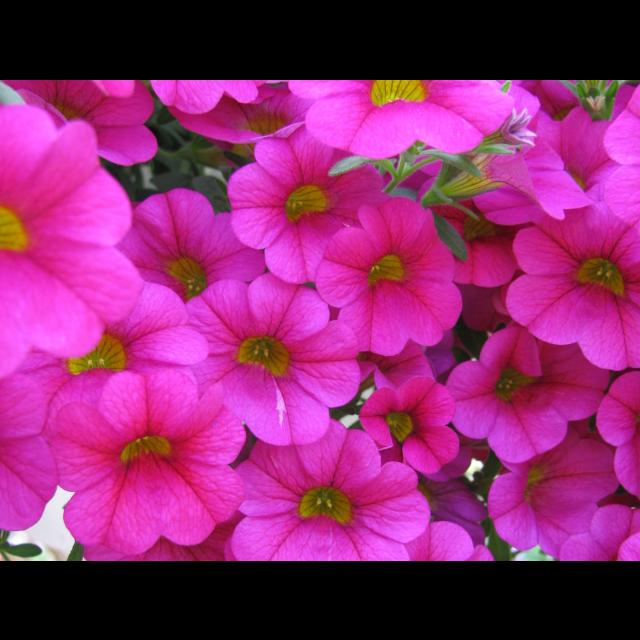Flower: (1, 80, 640, 560)
